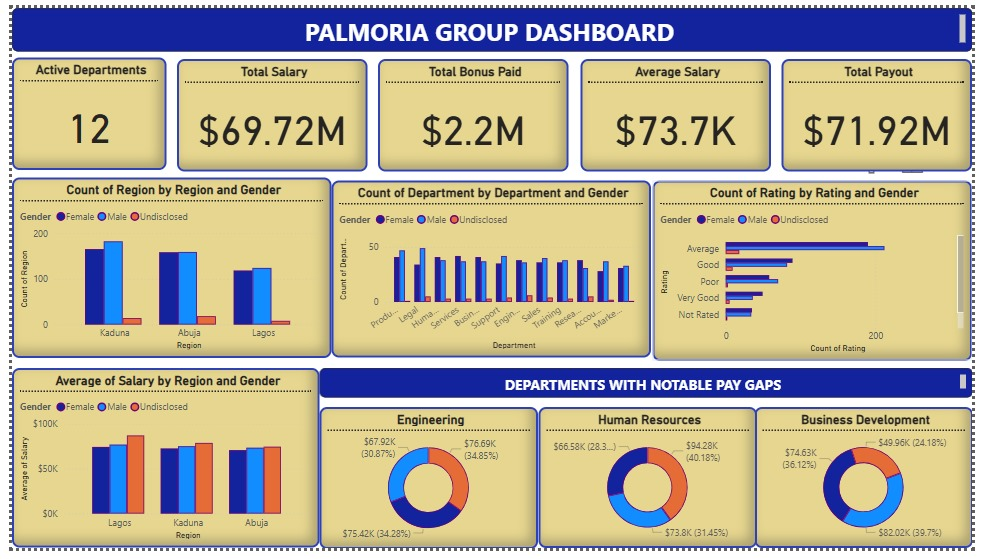

The dashboard page shown, as its layout file describes it:
{"tool":"powerbi","page":{"name":"Page 1","canvas":[1280,720],"ordinal":0},"visuals":[{"type":"textbox","box":[0,0,1280.7,57.8],"z":0},{"type":"clusteredColumnChart","fields":{"Category":["Palmoria Merged.Region"],"Series":["Palmoria Merged.Gender"],"Y":["CountNonNull(Palmoria Merged.Region)"]},"box":[0,225.1,426,241],"z":1000},{"type":"clusteredBarChart","fields":{"Category":["Palmoria Merged.Rating"],"Y":["CountNonNull(Palmoria Merged.Rating)"],"Series":["Palmoria Merged.Gender"]},"box":[854.5,229,426.2,241],"z":2000},{"type":"clusteredColumnChart","fields":{"Series":["Palmoria Merged.Gender"],"Y":["Avg(Palmoria Merged.Salary)"],"Category":["Palmoria Merged.Region"]},"box":[0,480,410.3,239],"z":3000},{"type":"donutChart","title":"Business Development","fields":{"Y":["Avg(Palmoria Merged.Salary)"],"Category":["Palmoria Merged.Gender"],"Series":["Palmoria Merged.Department"]},"box":[990,531.1,291.1,187.8],"z":4000},{"type":"donutChart","title":"Engineering","fields":{"Y":["Avg(Palmoria Merged.Salary)"],"Category":["Palmoria Merged.Gender","Palmoria Merged.Department"]},"box":[410,531,291,189],"z":5000},{"type":"donutChart","title":"Human Resources","fields":{"Y":["Avg(Palmoria Merged.Salary)"],"Category":["Palmoria Merged.Gender","Palmoria Merged.Department"]},"box":[701,531,291,188],"z":6000},{"type":"textbox","box":[410,480,871,39],"z":7000},{"type":"card","title":"Active Departments","fields":{"Values":["Count(Palmoria Merged.Department)"]},"box":[0,66,206,150],"z":8000},{"type":"card","title":"Total Salary","fields":{"Values":["Sum(Palmoria Merged.Salary)"]},"box":[220,68,254,150],"z":9000},{"type":"card","title":"Total Bonus Paid","fields":{"Values":["Sum(Palmoria Merged.Annual Bonus)"]},"box":[488,68,254,150],"z":10000},{"type":"card","title":"Average Salary","fields":{"Values":["Avg(Palmoria Merged.Salary)"]},"box":[758,68,254,150],"z":11000},{"type":"card","title":"Total Payout","fields":{"Values":["Sum(Palmoria Merged.Total Pay)"]},"box":[1026,68,254,150],"z":12000},{"type":"clusteredColumnChart","fields":{"Category":["Palmoria Merged.Department"],"Series":["Palmoria Merged.Gender"],"Y":["CountNonNull(Palmoria Merged.Department)"]},"box":[426,230,426,236],"z":12001}]}

Visuals, with their boxes in screenshot pixels (x1, y1, x2, y2), scaled from the page's 1280x720 canvas onto the 987x559 screenshot:
textbox: <bbox>0, 0, 986, 45</bbox>
clusteredColumnChart - Palmoria Merged.Region x Palmoria Merged.Gender: <bbox>0, 175, 328, 362</bbox>
clusteredBarChart - Palmoria Merged.Rating x CountNonNull(Palmoria Merged.Rating): <bbox>659, 178, 986, 365</bbox>
clusteredColumnChart - Palmoria Merged.Gender x Avg(Palmoria Merged.Salary): <bbox>0, 373, 316, 558</bbox>
"Business Development" donutChart: <bbox>763, 412, 986, 558</bbox>
"Engineering" donutChart: <bbox>316, 412, 541, 558</bbox>
"Human Resources" donutChart: <bbox>541, 412, 765, 558</bbox>
textbox: <bbox>316, 373, 986, 403</bbox>
"Active Departments" card: <bbox>0, 51, 159, 168</bbox>
"Total Salary" card: <bbox>170, 53, 365, 169</bbox>
"Total Bonus Paid" card: <bbox>376, 53, 572, 169</bbox>
"Average Salary" card: <bbox>584, 53, 780, 169</bbox>
"Total Payout" card: <bbox>791, 53, 986, 169</bbox>
clusteredColumnChart - Palmoria Merged.Department x Palmoria Merged.Gender: <bbox>328, 179, 657, 362</bbox>
